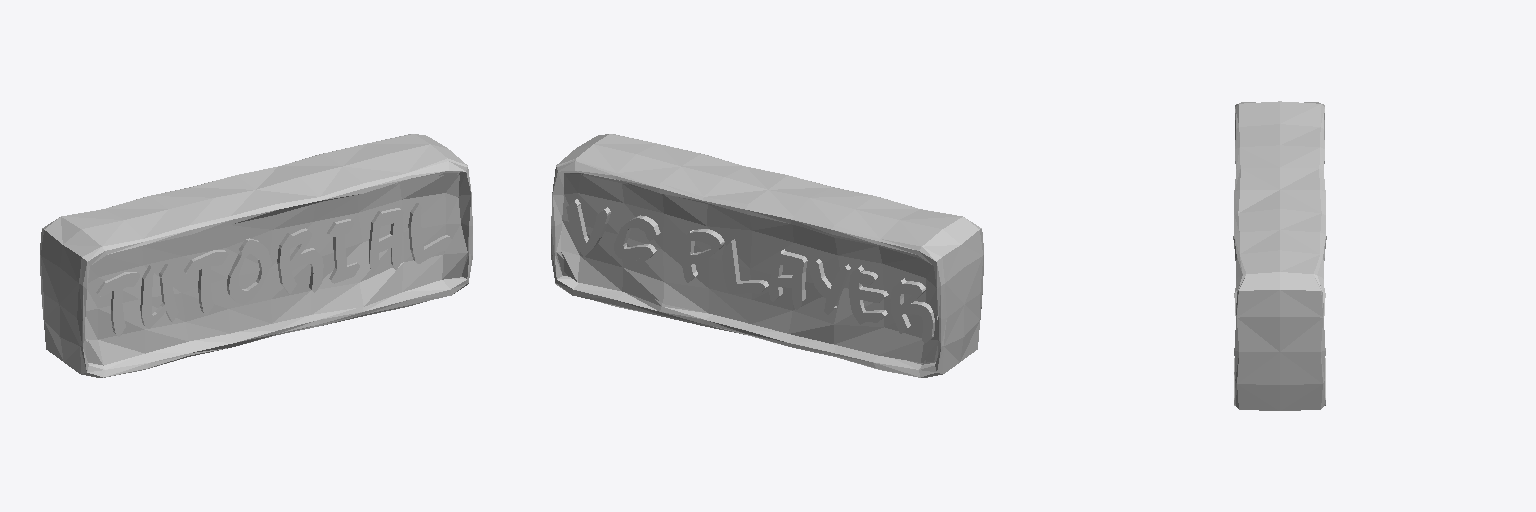
Rendered from tutorial_button_obj.obj.
The picture shows the model from 3 angles: view 1: azimuth 30°, elevation 25°; view 2: azimuth 150°, elevation 25°; view 3: azimuth 270°, elevation 25°; orthographic projection.
Parts seen in each view (by area): view 1: tutorial_button_obj:Default1 tutorial_button_obj:tutorial_button, tutorial_button_obj:tutorial polySurface10; view 2: tutorial_button_obj:Default1 tutorial_button_obj:tutorial_button, polySurface26; view 3: tutorial_button_obj:Default1 tutorial_button_obj:tutorial_button.
Boxes of the visible parts, x1=… form: tutorial_button_obj:Default1 tutorial_button_obj:tutorial_button: x1=40, y1=134, x2=472, y2=377; tutorial_button_obj:tutorial polySurface10: x1=96, y1=203, x2=451, y2=336; tutorial_button_obj:Default1 tutorial_button_obj:tutorial_button: x1=551, y1=134, x2=983, y2=377; polySurface26: x1=566, y1=199, x2=937, y2=343; tutorial_button_obj:Default1 tutorial_button_obj:tutorial_button: x1=1233, y1=101, x2=1326, y2=410.
Size of the model in its own units: 22 by 7.46 by 4.52.